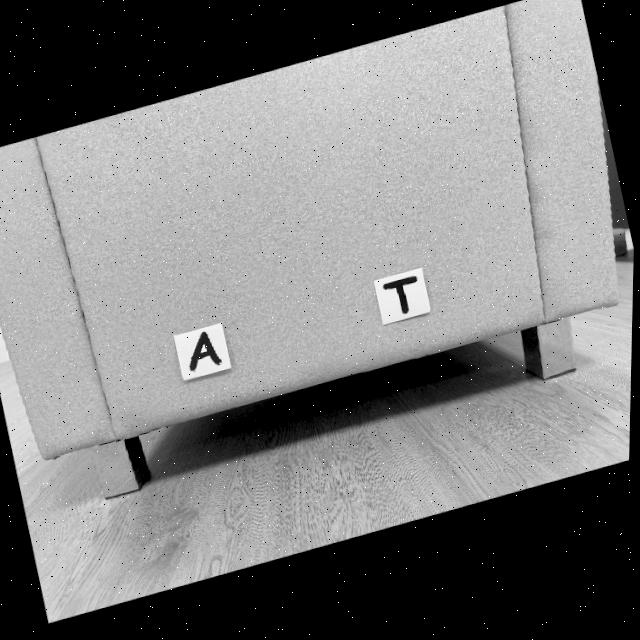A: (192, 333, 222, 373)
T: (384, 280, 418, 318)
